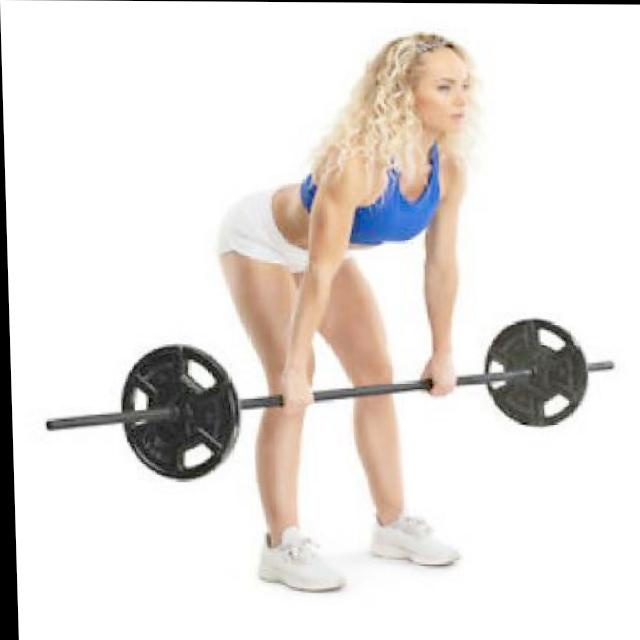barbell: (30, 344, 246, 486)
